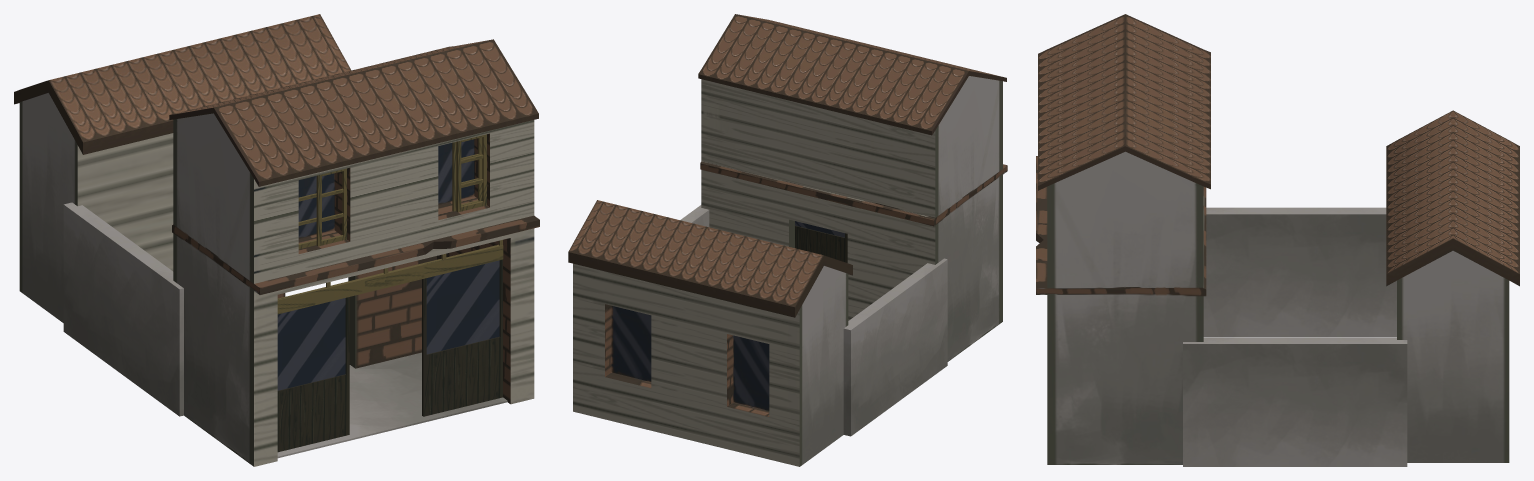
Rendered from TwinHouse_2F_Open_1.fbx.
3 renders of one model, left to right at view 1: azimuth 30°, elevation 25°; view 2: azimuth 150°, elevation 25°; view 3: azimuth 270°, elevation 25°, orthographic. The views are drawn at different scales.
Visible parts, largest first — view 1: Box002; view 2: Box002; view 3: Box002.
Boxes of the visible parts, x1,y1,x2,y2 form: Box002: (14,14,539,466); Box002: (568,14,1007,466); Box002: (1036,14,1519,466).
Bounding box in the file's own units: 380 × 416 × 572.
Materials: 1 (1 with a texture image).
